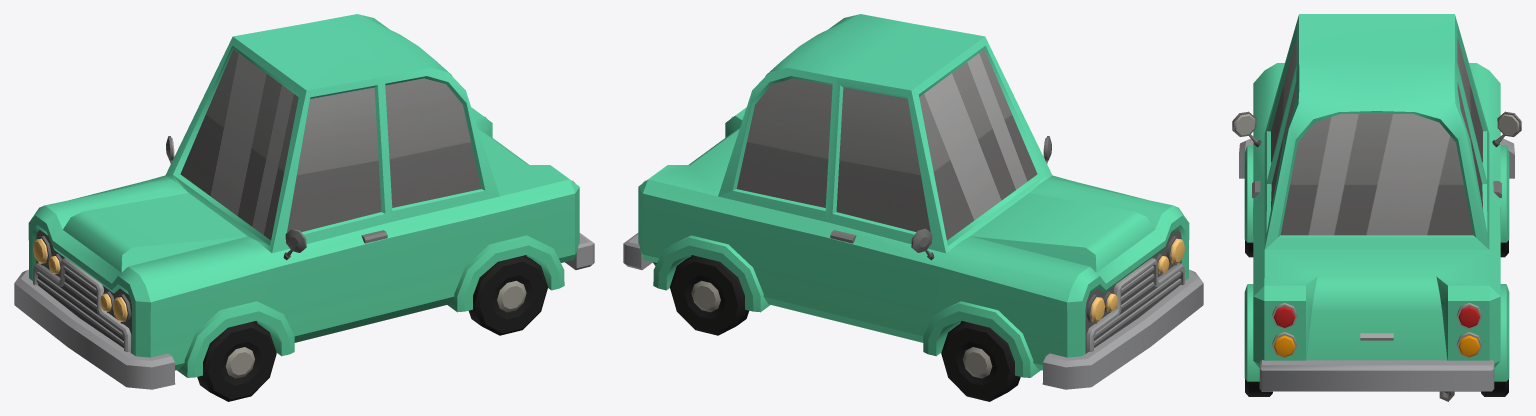
The model's file is Car_8_O.gltf.
3 renders of one model, left to right at view 1: azimuth 30°, elevation 25°; view 2: azimuth 150°, elevation 25°; view 3: azimuth 270°, elevation 25°, orthographic. The views are drawn at different scales.
Visible parts, largest first — view 1: Car_8_O, RL, FL; view 2: Car_8_O, RR, FR; view 3: Car_8_O, RL, RR.
Boxes of the visible parts, x1,y1,x2,y2 form: Car_8_O: [14, 14, 594, 389]; RL: [469, 255, 547, 335]; FL: [197, 321, 276, 401]; Car_8_O: [623, 14, 1203, 389]; RR: [670, 255, 748, 335]; FR: [941, 321, 1020, 401]; Car_8_O: [1232, 14, 1521, 401]; RL: [1245, 379, 1272, 396]; RR: [1481, 379, 1508, 396].
Size of the model in its own units: 3.38 by 1.84 by 1.7.
Materials: 3 (3 with a texture image).
